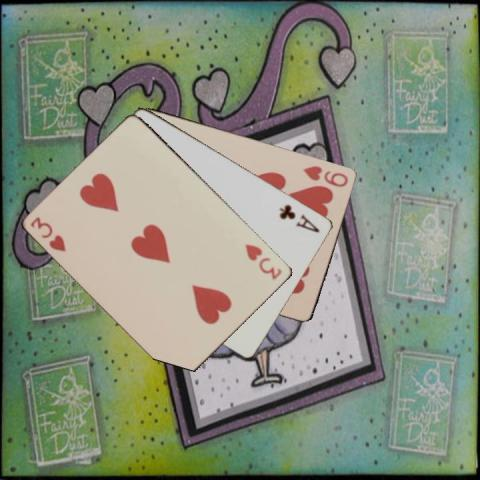3h: (242, 241, 284, 281), (28, 214, 68, 253)
9h: (301, 162, 350, 188)
Ac: (277, 201, 321, 234)
